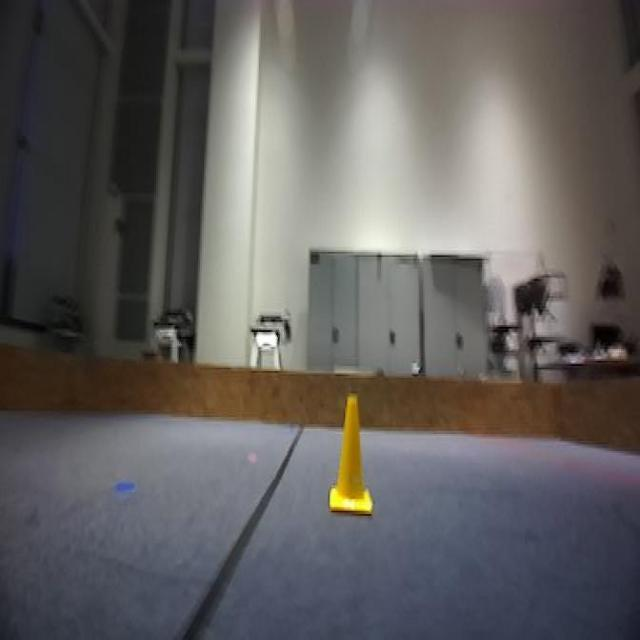frc_cone: (328, 395, 375, 511)
